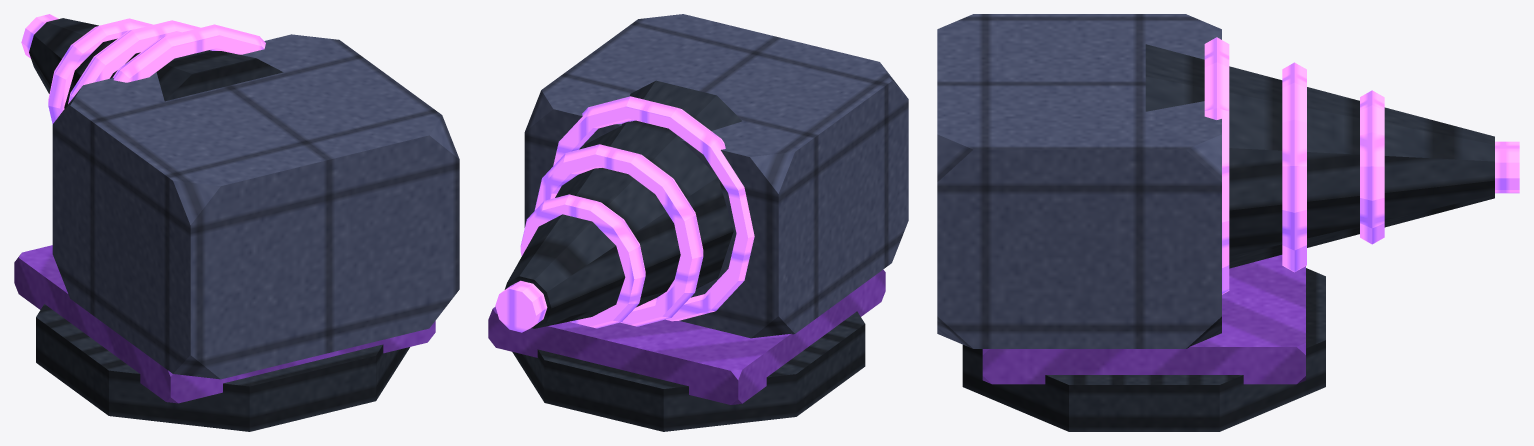
File: eq_plasma_drill.glb
The picture shows the model from 3 angles, left to right: view 1: azimuth 30°, elevation 25°; view 2: azimuth 150°, elevation 25°; view 3: azimuth 270°, elevation 25°; orthographic projection. The views are drawn at different scales.
Visible parts, largest first — view 1: eq_plasma_drill; view 2: eq_plasma_drill; view 3: eq_plasma_drill.
Boxes of the visible parts, <box> form: eq_plasma_drill: <box>14,14,459,431</box>; eq_plasma_drill: <box>488,14,908,431</box>; eq_plasma_drill: <box>937,14,1519,431</box>.
Bounding box in the file's own units: 1.4 × 1.3 × 2.25.
Materials: 1 (1 with a texture image).
